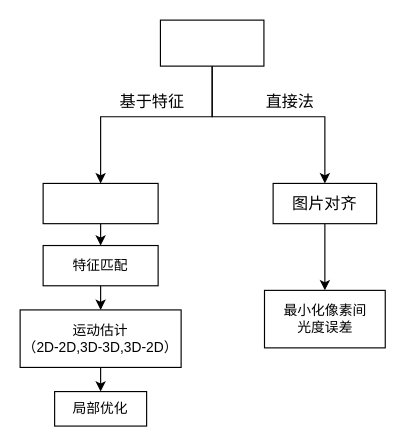
Some shapes in this 406 by 446 pixel diagram are drawn without their labels. Each missing label, with the centre of its shape:
"图片序列" goes at (x=211, y=42).
"特征检测" goes at (x=100, y=203).
